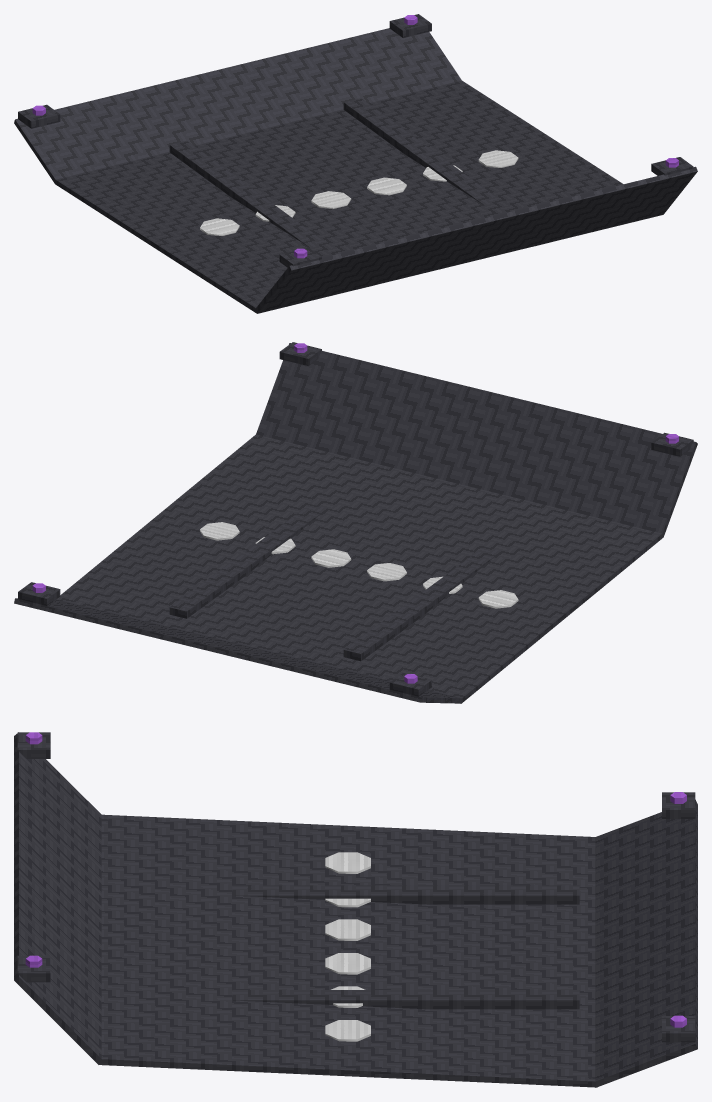
Rendered from protetor_n5.glb.
The picture shows the model from 3 angles, top to bottom: view 1: azimuth 30°, elevation 25°; view 2: azimuth 150°, elevation 25°; view 3: azimuth 270°, elevation 25°; orthographic projection. The views are drawn at different scales.
Parts seen in each view (by area): view 1: protetor_n5; view 2: protetor_n5; view 3: protetor_n5.
Boxes of the visible parts, box(x1,y1,x2,y2) form: protetor_n5: box(14, 14, 697, 313); protetor_n5: box(14, 342, 697, 703); protetor_n5: box(14, 732, 697, 1087).
Size of the model in its own units: 0.7 by 0.1585 by 0.8277.
3 materials, 3 textured.
